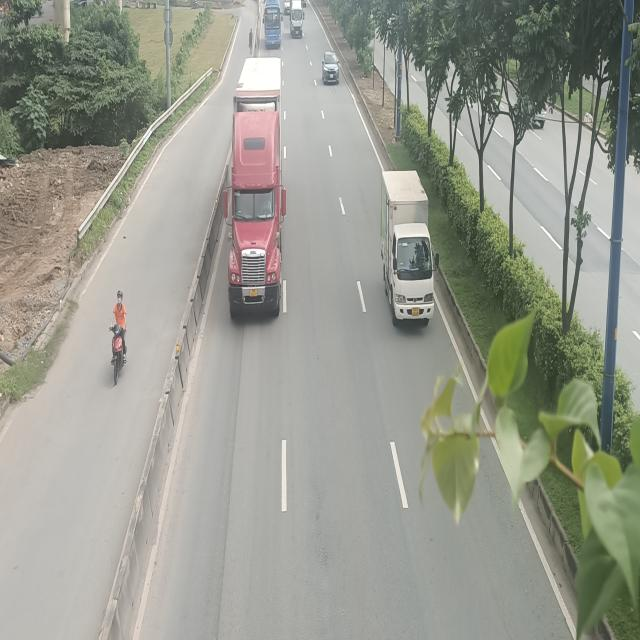car: (321, 50, 340, 84)
coach: (262, 0, 283, 47)
container: (222, 55, 287, 324)
truck: (380, 169, 440, 325), (290, 0, 304, 39)
